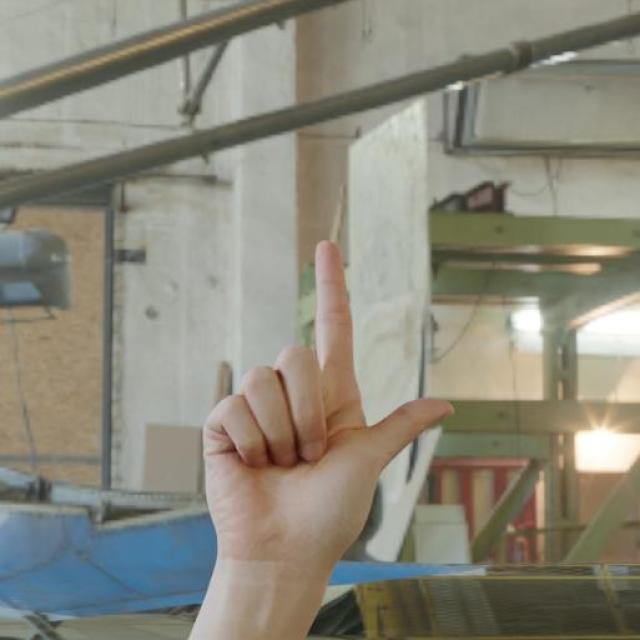L: (162, 229, 480, 640)
